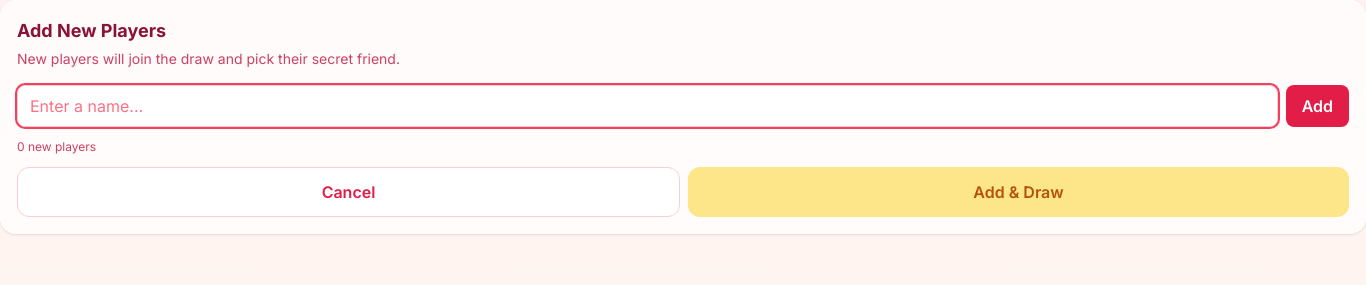
Test: AddPlayersForm › prevents duplicate names (case-insensitive)
This screenshot has width=1366, height=285.
Type "alice" into the field labelled "Enter a name..." at (647, 106), box [17,85,1278,127]
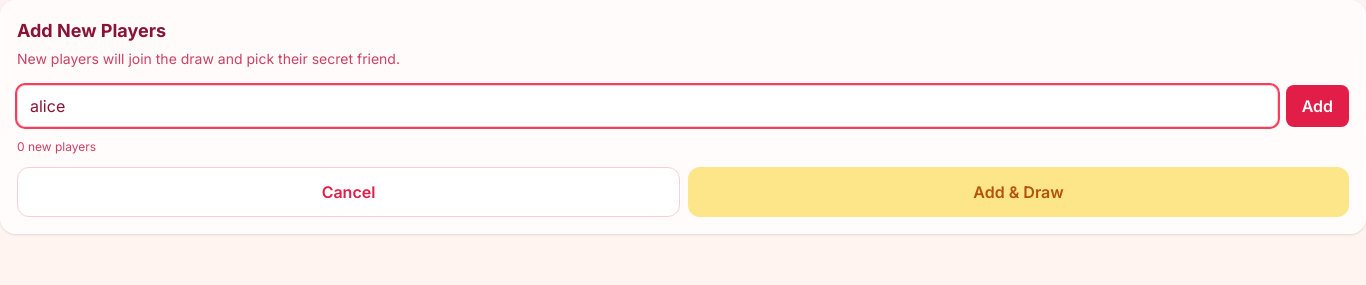
Click the button "Add" at (1317, 106), box [1286,85,1349,127]
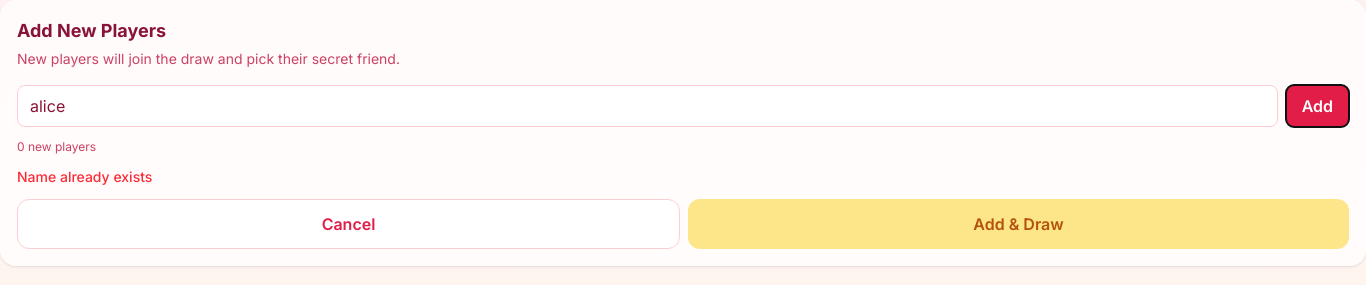
expect the message reads "Name already exists": met, box [17,168,152,185]
